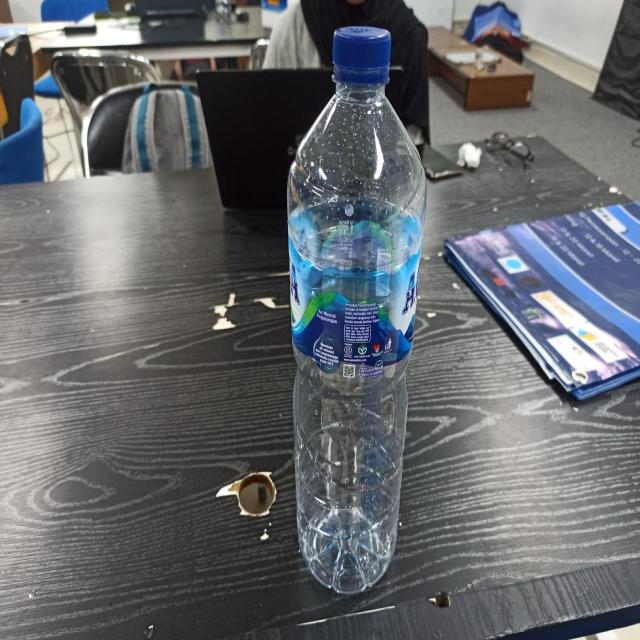BotolPlastik: (285, 25, 427, 594)
